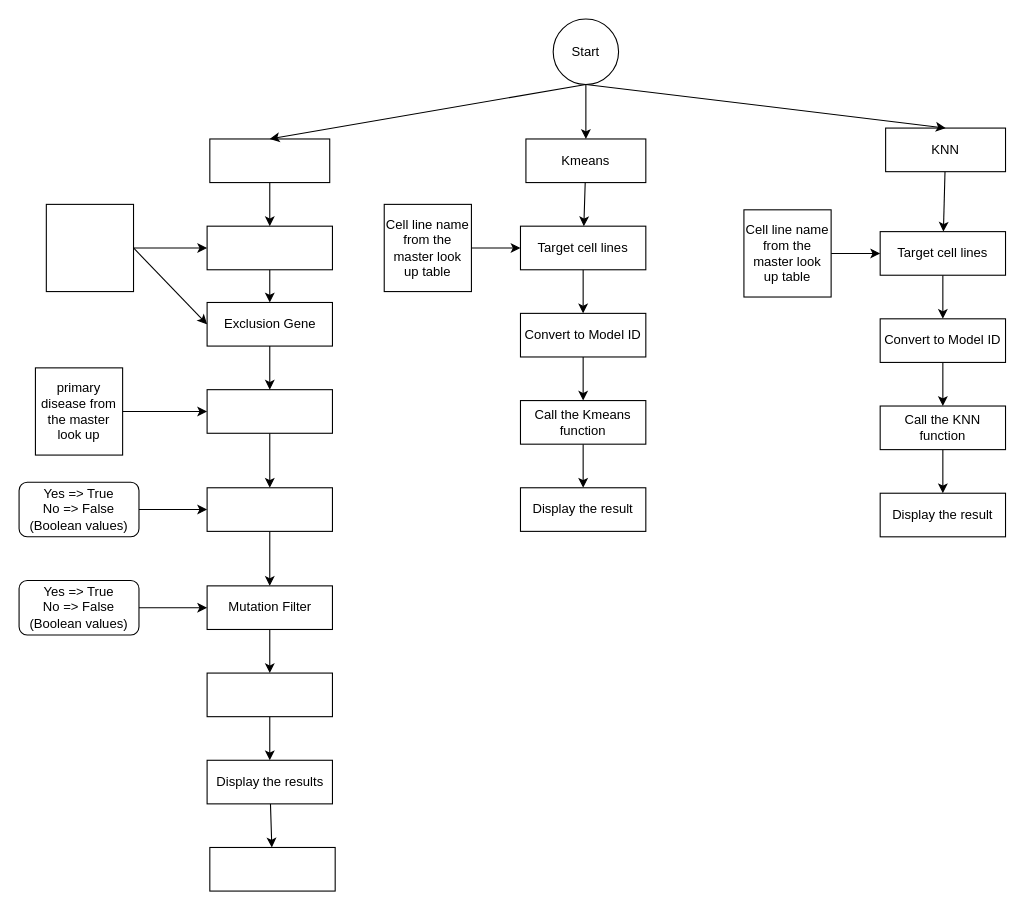
This 1025x910 diagram has some shape labels left out. Here are the shapes that lost their labels. From the top down, the centre of each, then its label:
At [269,160]: "Celline selector".
At [89,247]: "Gene maping table".
At [269,247]: "Target Gene".
At [269,411]: "Disease".
At [269,509]: "Fusion Filter".
At [269,694]: "backend Application runner".
At [272,868]: "PDF Extract".
